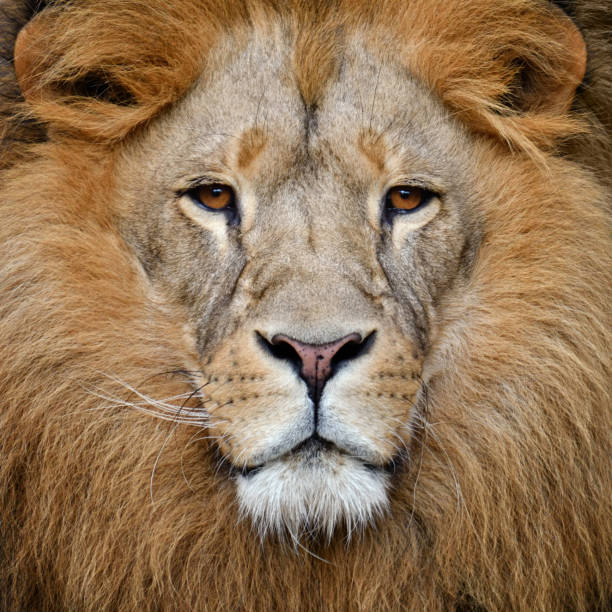lion: (7, 6, 590, 612)
